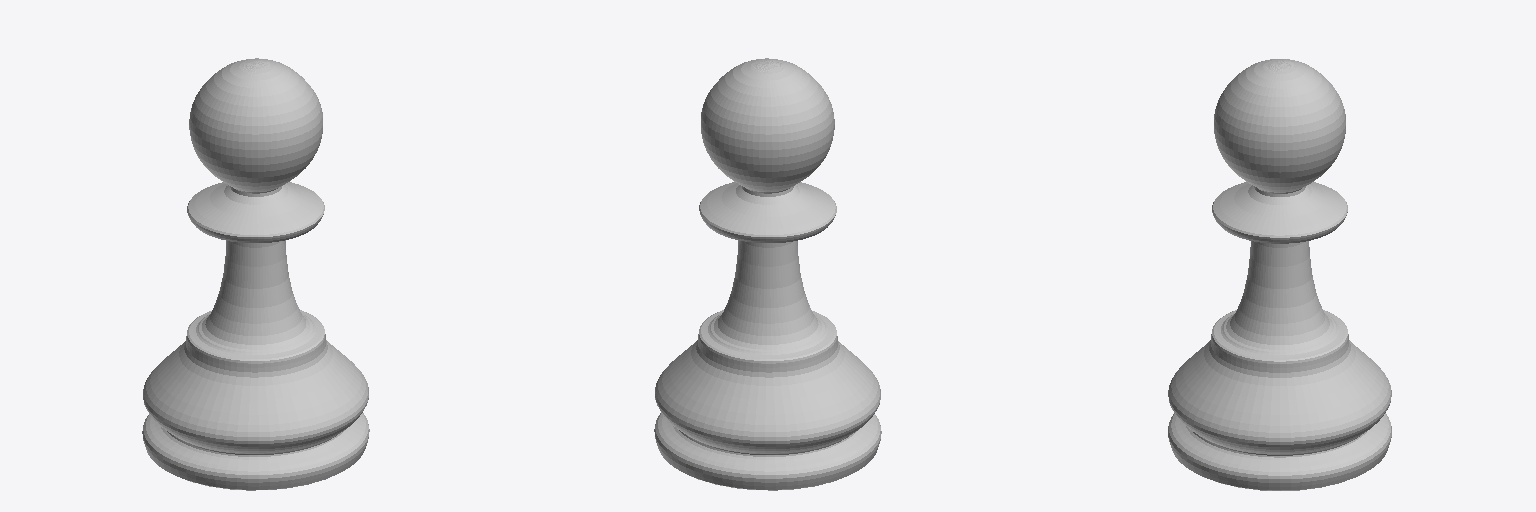
File: pawn.obj
The picture shows the model from 3 angles: view 1: azimuth 30°, elevation 25°; view 2: azimuth 150°, elevation 25°; view 3: azimuth 270°, elevation 25°; orthographic projection.
Parts seen in each view (by area): view 1: pawn_white_8_Cylinder.029; view 2: pawn_white_8_Cylinder.029; view 3: pawn_white_8_Cylinder.029.
Part boxes in pixels (left/top/right/bottom): pawn_white_8_Cylinder.029: left=142, top=58, right=369, bottom=490; pawn_white_8_Cylinder.029: left=654, top=58, right=881, bottom=490; pawn_white_8_Cylinder.029: left=1168, top=59, right=1391, bottom=490.
Size of the model in its own units: 0.9866 by 1.83 by 0.9699.